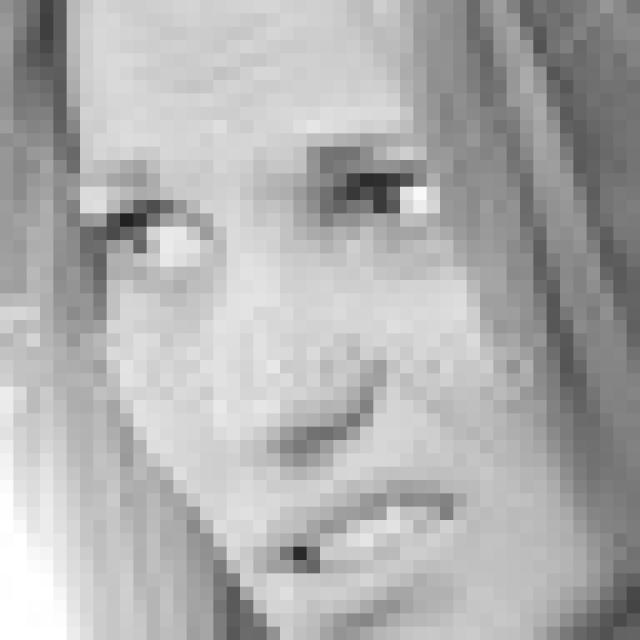disgust: (93, 122, 466, 640)
